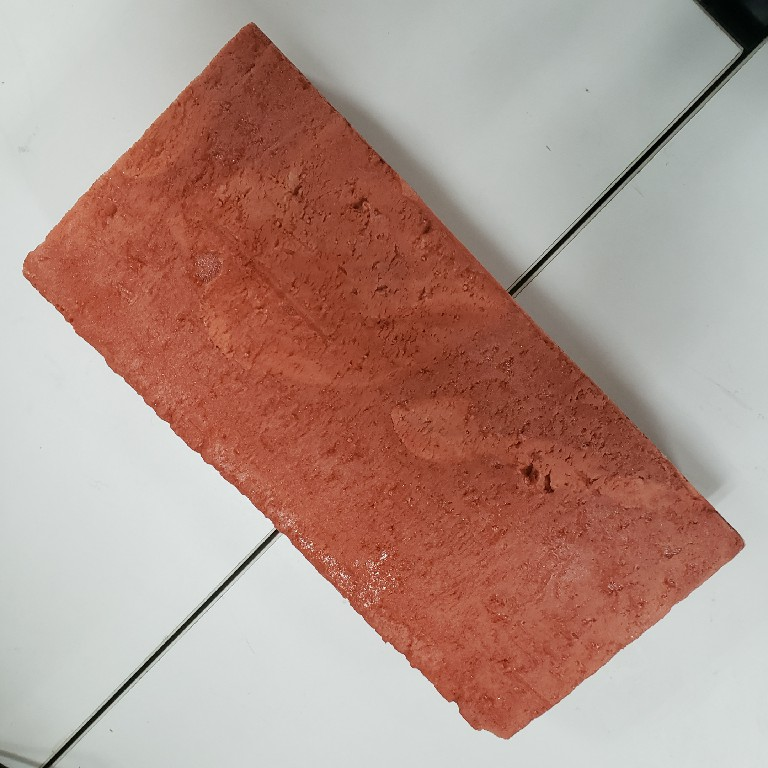brick: (13, 18, 754, 750)
